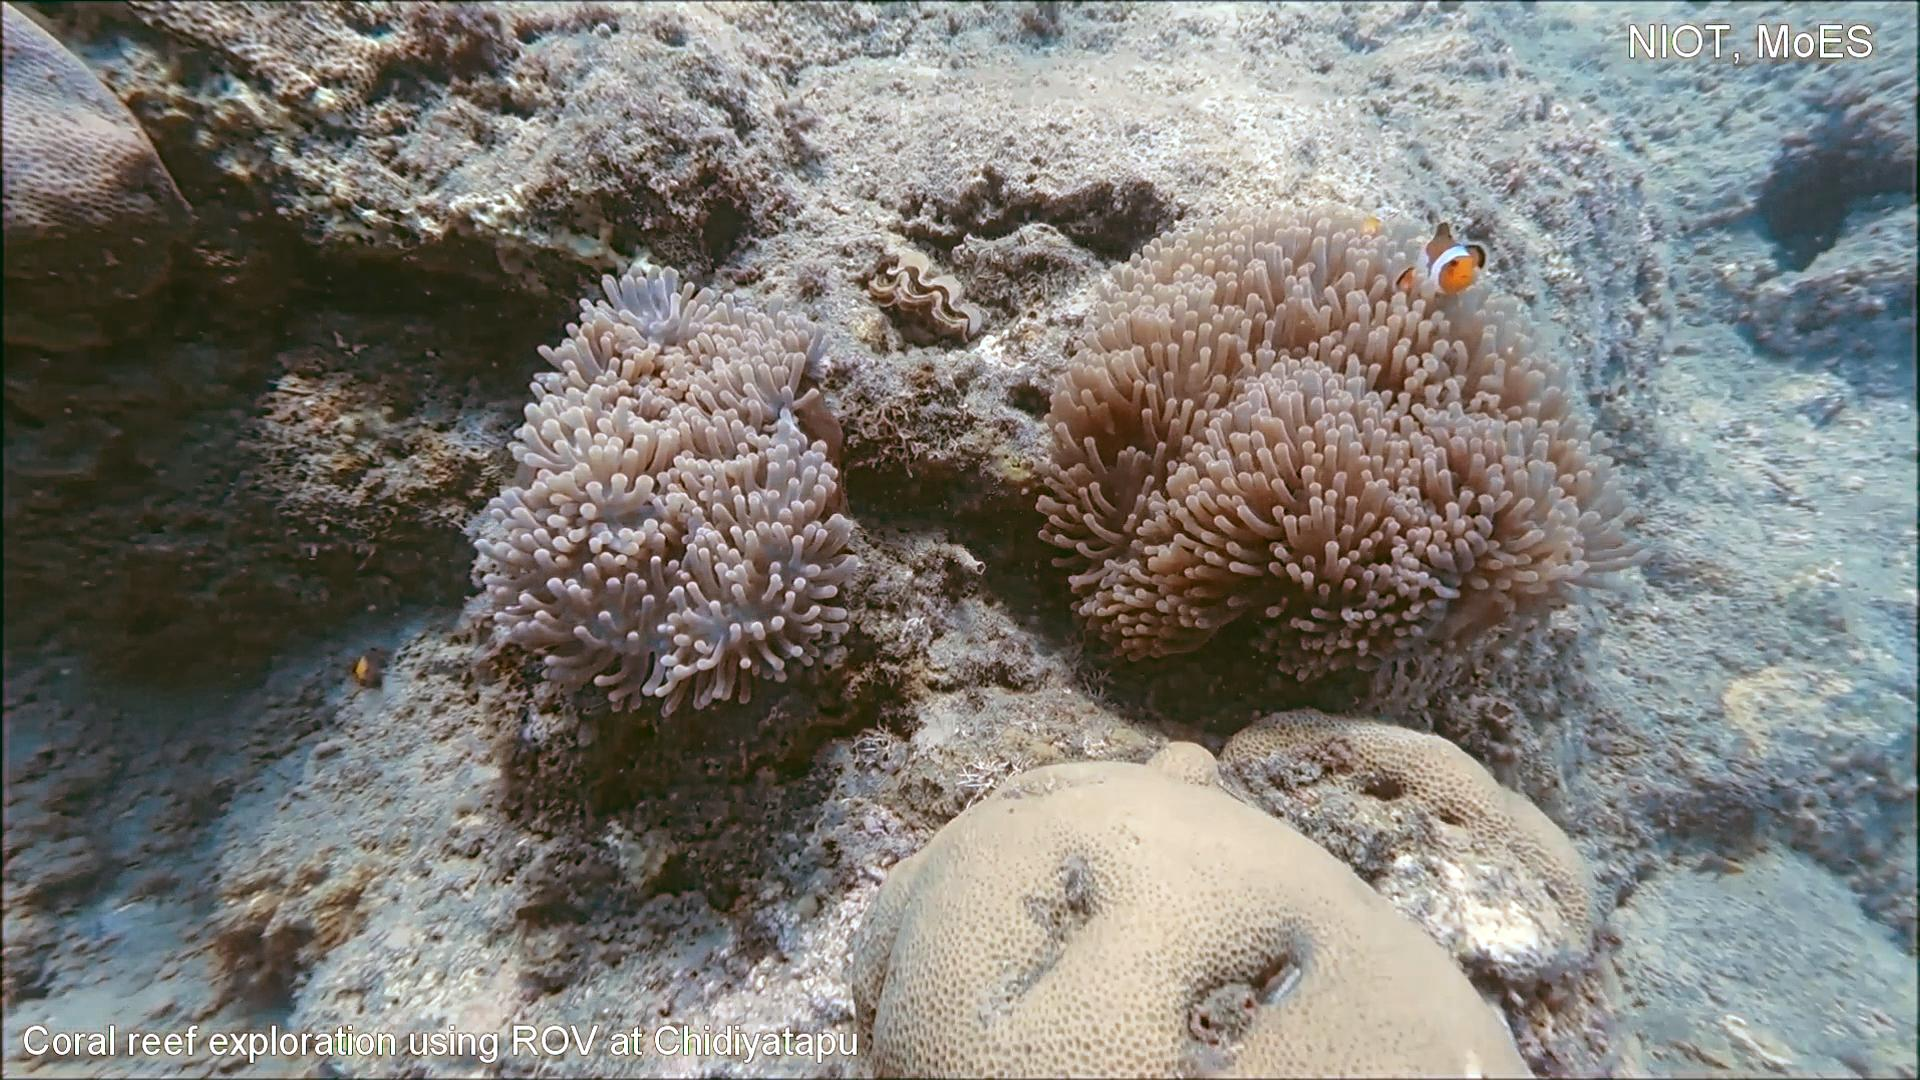Macrodactyla doreensis-Long tentacle Anemone: (1030, 182, 1660, 695), (464, 251, 876, 720)
